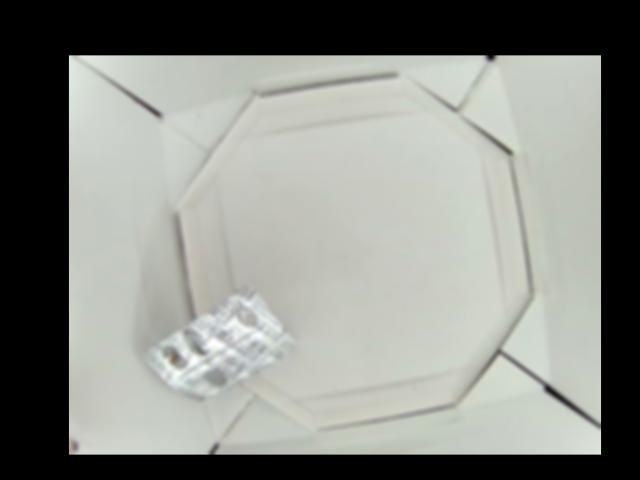Medicine: (147, 285, 294, 399)
